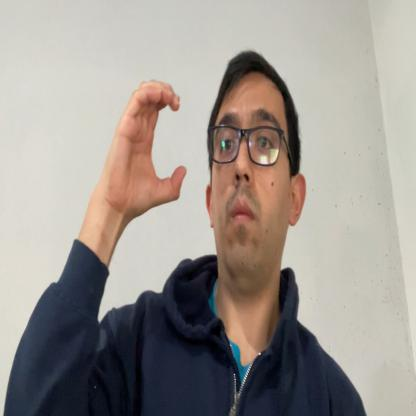C: (110, 80, 186, 214)
